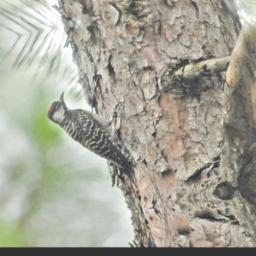Woodpecker: (40, 76, 140, 193)
